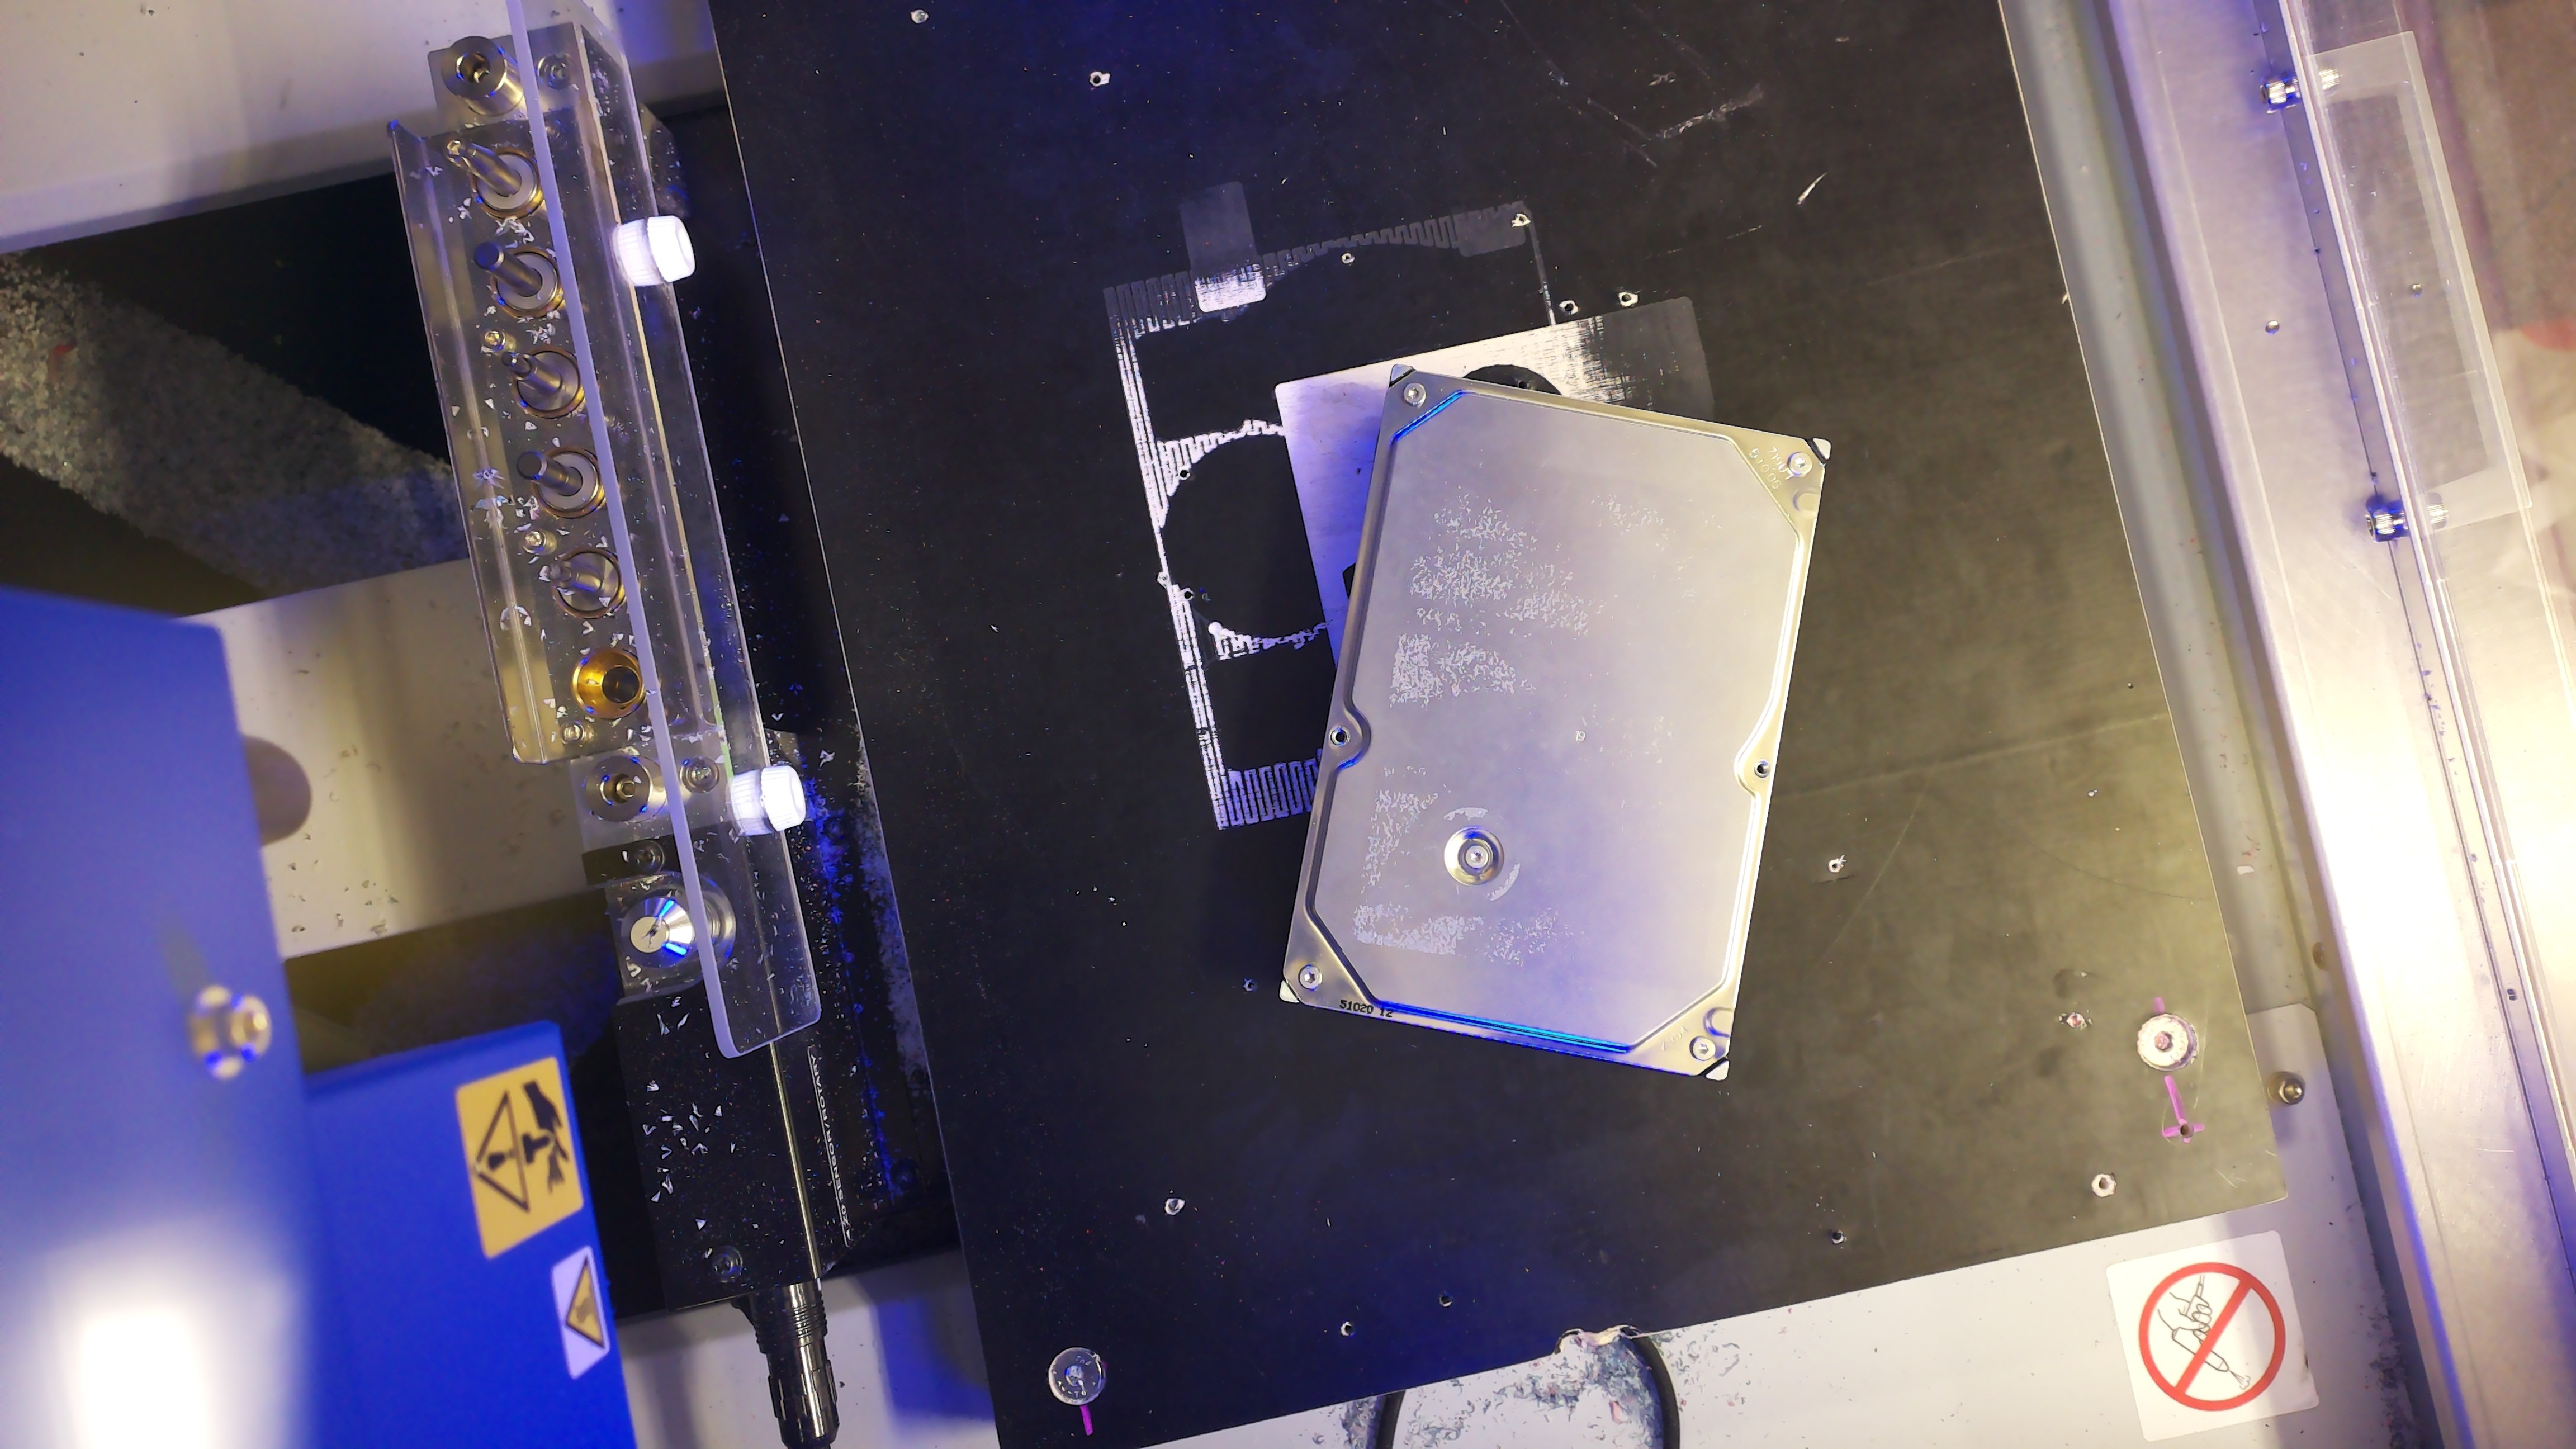Hole: (1330, 728, 1348, 745), (1755, 760, 1772, 778)
Screw: (1691, 1036, 1716, 1061), (1788, 451, 1812, 475), (1299, 965, 1323, 990), (1403, 382, 1426, 406), (1465, 845, 1488, 869)
